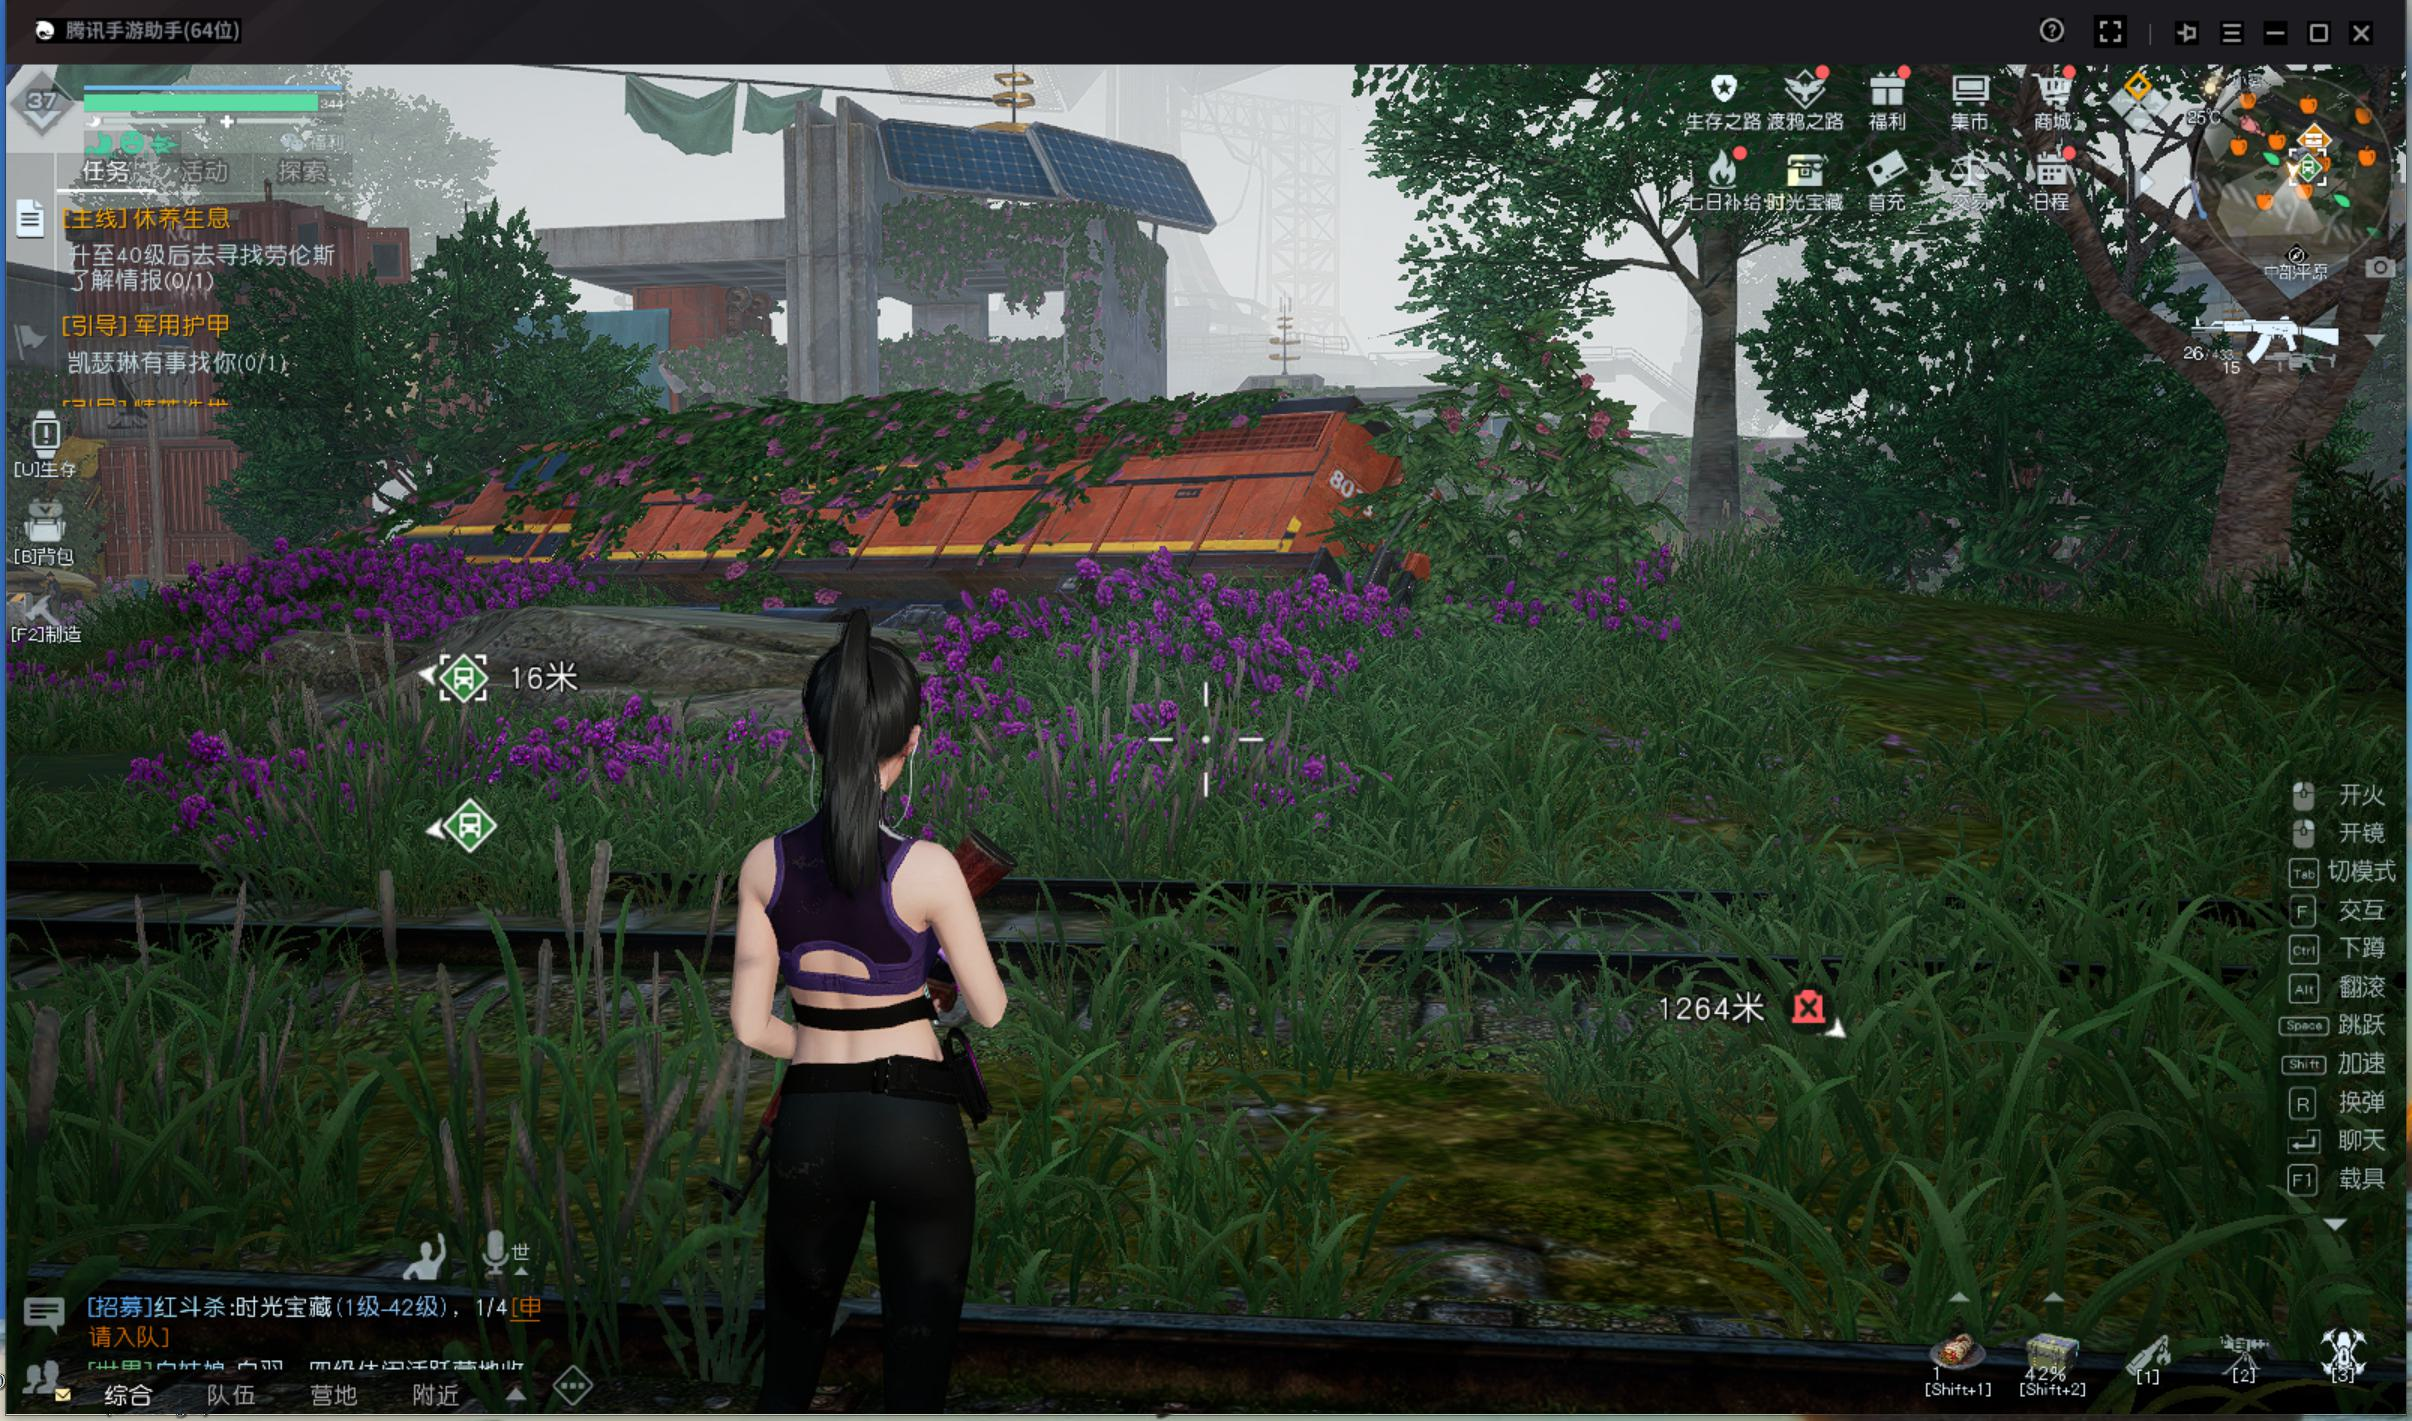tree: (2192, 392, 2333, 645), (1669, 222, 1761, 595)
